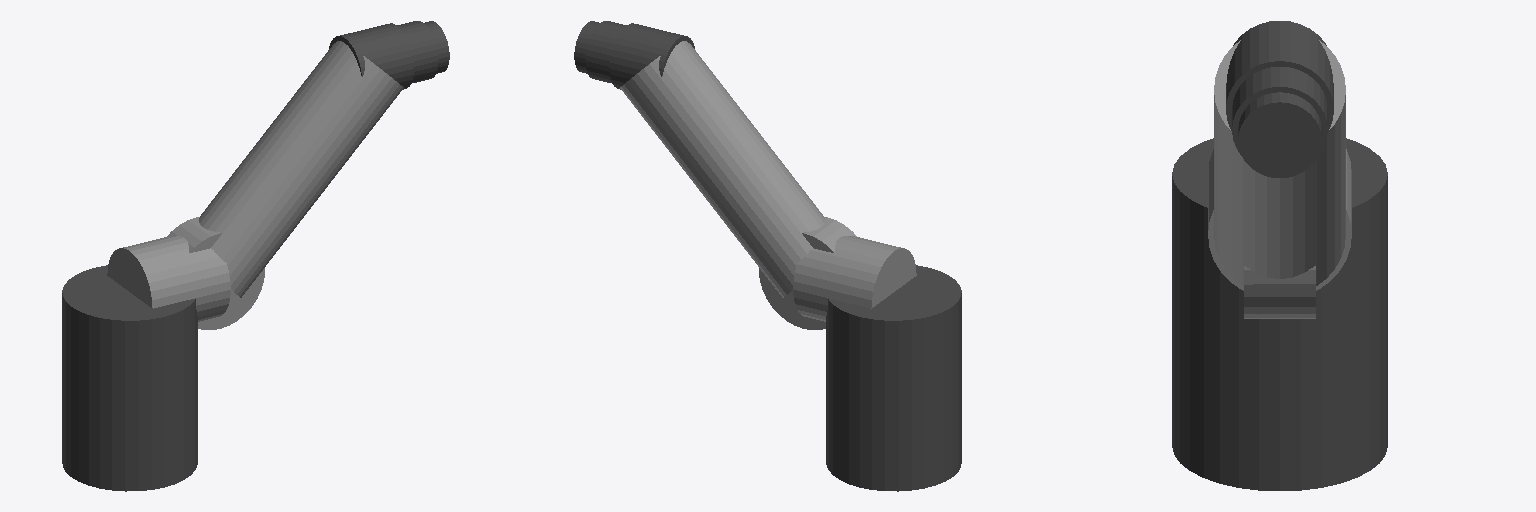
robot.urdf — rs003nff60:
<?xml version="1.0"?>
<robot name="rs003nff60">

  <!-- ==========================================================
       URDF generado EXACTAMENTE a partir de la tabla de parámetros
       Denavit-Hartenberg (foto adjunta por el usuario).

       Convención usada (coincide con el orden de columnas de la
       tabla: theta_i | d_i | alpha_i | a_i):

           A_i = Rz(theta_i) * Tz(d_i) * Rx(alpha_i) * Tx(a_i)

       Tabla DH (mm y rad):
         Link |  theta_i     |  d_i  |  alpha_i  |  a_i
           1  |  theta1      |  250  |   +pi/2   |  120
           2  |  theta2      |    0  |     0     |    0
           3  |  theta3+pi/2 |    0  |   +pi/2   |  250
           4  |  theta4      |  250  |   -pi/2   |    0
           5  |  theta5      |    0  |   +pi/2   |    0
           6  |  theta6      |   80  |     0     |    0

       Cómo se llevó cada fila de la tabla DH a un joint URDF:
       Como Rz(theta) y Tz(d) conmutan (ambas son sobre el eje z),
       el producto total de las 6 matrices DH se puede reescribir
       como: [Tz(d1)*Rz(th1)] * [Rx(a1)*Tx(a1)*Tz(d2)*Rz(th2)] * ...
       Esto permite definir, para cada joint i, un "origin" fijo
       igual a:
             origin_i = Rx(alpha_{i-1}) * Tx(a_{i-1}) * Tz(d_i)
       (con alpha_0 = a_0 = 0), eje de giro = z, y variable = theta_i.
       Esta construcción se verificó numéricamente (Python/numpy):
       para ángulos aleatorios, T_URDF = T_DH exactamente (error 0).

       El offset fijo de +pi/2 del link 3 (theta3 + pi/2 en la tabla)
       se incorpora como una rotación constante rpy_z=+pi/2 en el
       origin de joint3: así, el valor del joint en el URDF
       corresponde exactamente a theta3 tal como aparece en la tabla.

       HOME (todos los joints en 0 rad) -> posición del punto P
       (origen de tool0) respecto a la base: x=450 mm, y=0, z=500 mm.

       El origen del robot se ancla en el mundo en (0,0,0).
       ========================================================== -->

  <material name="grey">
    <color rgba="0.6 0.6 0.6 1.0"/>
  </material>
  <material name="dark_grey">
    <color rgba="0.35 0.35 0.35 1.0"/>
  </material>

  <link name="world"/>

  <joint name="world_to_base" type="fixed">
    <parent link="world"/>
    <child link="base_link"/>
    <origin xyz="0 0 0" rpy="0 0 0"/>
  </joint>

  <!-- ================= BASE (columna fija, d1 = 250 mm) =================
       Como el eje de joint1 es z (vertical) y coincide con el eje de
       esta columna, se puede modelar toda la columna como parte del
       base_link sin afectar la cinemática (rotacionalmente simétrica). -->
  <link name="base_link">
    <visual>
      <origin xyz="0 0 0.125" rpy="0 0 0"/>
      <geometry>
        <cylinder radius="0.09" length="0.25"/>
      </geometry>
      <material name="dark_grey"/>
    </visual>
    <collision>
      <origin xyz="0 0 0.125" rpy="0 0 0"/>
      <geometry>
        <cylinder radius="0.09" length="0.25"/>
      </geometry>
    </collision>
    <inertial>
      <mass value="15.0"/>
      <origin xyz="0 0 0.125"/>
      <inertia ixx="0.05" ixy="0" ixz="0" iyy="0.05" iyz="0" izz="0.05"/>
    </inertial>
  </link>

  <!-- ================= J1: theta1, d1=250, alpha1=+90, a1=120 ================= -->
  <joint name="joint1" type="revolute">
    <parent link="base_link"/>
    <child link="link1"/>
    <origin xyz="0 0 0.25" rpy="0 0 0"/>
    <axis xyz="0 0 1"/>
    <limit lower="-2.9671" upper="2.9671" effort="200" velocity="6.28"/>
  </joint>

  <!-- link1: va de joint1 a joint2, offset local (0.12, 0, 0) -> 120 mm en X -->
  <link name="link1">
    <visual>
      <origin xyz="0.06 0 0" rpy="0 1.5708 0"/>
      <geometry>
        <cylinder radius="0.06" length="0.12"/>
      </geometry>
      <material name="grey"/>
    </visual>
    <collision>
      <origin xyz="0.06 0 0" rpy="0 1.5708 0"/>
      <geometry>
        <cylinder radius="0.06" length="0.12"/>
      </geometry>
    </collision>
    <inertial>
      <mass value="6.0"/>
      <origin xyz="0.06 0 0"/>
      <inertia ixx="0.015" ixy="0" ixz="0" iyy="0.015" iyz="0" izz="0.01"/>
    </inertial>
  </link>

  <!-- ================= J2: theta2, d2=0, alpha2=0, a2=0 ================= -->
  <joint name="joint2" type="revolute">
    <parent link="link1"/>
    <child link="link2"/>
    <origin xyz="0.12 0 0" rpy="1.5708 0 0"/>
    <axis xyz="0 0 1"/>
    <limit lower="-1.0472" upper="1.5708" effort="200" velocity="5.24"/>
  </joint>

  <!-- link2: joint3 coincide con joint2 (d2=a2=0) -> solo un muñón visual -->
  <link name="link2">
    <visual>
      <origin xyz="0 0 0" rpy="0 0 0"/>
      <geometry>
        <cylinder radius="0.07" length="0.06"/>
      </geometry>
      <material name="grey"/>
    </visual>
    <collision>
      <origin xyz="0 0 0" rpy="0 0 0"/>
      <geometry>
        <cylinder radius="0.07" length="0.06"/>
      </geometry>
    </collision>
    <inertial>
      <mass value="4.0"/>
      <origin xyz="0 0 0"/>
      <inertia ixx="0.01" ixy="0" ixz="0" iyy="0.01" iyz="0" izz="0.008"/>
    </inertial>
  </link>

  <!-- ================= J3: theta3+90, d3=0, alpha3=+90, a3=250 =================
       El offset de +pi/2 de la tabla se aplica como rpy_z=+pi/2 fijo:
       el valor de este joint en el URDF = theta3 (tal cual la tabla). -->
  <joint name="joint3" type="revolute">
    <parent link="link2"/>
    <child link="link3"/>
    <origin xyz="0 0 0" rpy="0 0 1.5708"/>
    <axis xyz="0 0 1"/>
    <limit lower="-1.0472" upper="1.0472" effort="150" velocity="6.28"/>
  </joint>

  <!-- link3: va de joint3 a joint4, offset local (0.25, -0.25, 0) -> 353.6 mm diagonal (a3=250, alpha3=90) -->
  <link name="link3">
    <visual>
      <origin xyz="0.125 -0.125 0" rpy="1.5708 0.7854 0.7854"/>
      <geometry>
        <cylinder radius="0.055" length="0.3536"/>
      </geometry>
      <material name="grey"/>
    </visual>
    <collision>
      <origin xyz="0.125 -0.125 0" rpy="1.5708 0.7854 0.7854"/>
      <geometry>
        <cylinder radius="0.055" length="0.3536"/>
      </geometry>
    </collision>
    <inertial>
      <mass value="4.0"/>
      <origin xyz="0.125 -0.125 0"/>
      <inertia ixx="0.01" ixy="0" ixz="0" iyy="0.01" iyz="0" izz="0.006"/>
    </inertial>
  </link>

  <!-- ================= J4: theta4, d4=250, alpha4=-90, a4=0 ================= -->
  <joint name="joint4" type="revolute">
    <parent link="link3"/>
    <child link="link4"/>
    <origin xyz="0.25 -0.25 0" rpy="1.5708 0 0"/>
    <axis xyz="0 0 1"/>
    <limit lower="-3.4907" upper="3.4907" effort="50" velocity="9.42"/>
  </joint>

  <!-- link4: joint5 coincide con joint4 (d4 ya viaja dentro del origin de joint4) -->
  <link name="link4">
    <visual>
      <origin xyz="0 0 0" rpy="0 0 0"/>
      <geometry>
        <cylinder radius="0.045" length="0.08"/>
      </geometry>
      <material name="dark_grey"/>
    </visual>
    <collision>
      <origin xyz="0 0 0" rpy="0 0 0"/>
      <geometry>
        <cylinder radius="0.045" length="0.08"/>
      </geometry>
    </collision>
    <inertial>
      <mass value="1.5"/>
      <origin xyz="0 0 0"/>
      <inertia ixx="0.002" ixy="0" ixz="0" iyy="0.002" iyz="0" izz="0.001"/>
    </inertial>
  </link>

  <!-- ================= J5: theta5, d5=0, alpha5=+90, a5=0 ================= -->
  <joint name="joint5" type="revolute">
    <parent link="link4"/>
    <child link="link5"/>
    <origin xyz="0 0 0" rpy="-1.5708 0 0"/>
    <axis xyz="0 0 1"/>
    <limit lower="-2.1817" upper="2.1817" effort="50" velocity="9.42"/>
  </joint>

  <!-- link5: va de joint5 a joint6, offset local (0, -0.08, 0) -> 80 mm (d6) -->
  <link name="link5">
    <visual>
      <origin xyz="0 -0.04 0" rpy="1.5708 0 0"/>
      <geometry>
        <cylinder radius="0.04" length="0.08"/>
      </geometry>
      <material name="dark_grey"/>
    </visual>
    <collision>
      <origin xyz="0 -0.04 0" rpy="1.5708 0 0"/>
      <geometry>
        <cylinder radius="0.04" length="0.08"/>
      </geometry>
    </collision>
    <inertial>
      <mass value="1.0"/>
      <origin xyz="0 -0.04 0"/>
      <inertia ixx="0.0008" ixy="0" ixz="0" iyy="0.0008" iyz="0" izz="0.0006"/>
    </inertial>
  </link>

  <!-- ================= J6: theta6, d6=80, alpha6=0, a6=0 ================= -->
  <joint name="joint6" type="revolute">
    <parent link="link5"/>
    <child link="flange"/>
    <origin xyz="0 -0.08 0" rpy="1.5708 0 0"/>
    <axis xyz="0 0 1"/>
    <limit lower="-6.2832" upper="6.2832" effort="30" velocity="12.56"/>
  </joint>

  <link name="flange">
    <visual>
      <origin xyz="0 0 0.01" rpy="0 0 0"/>
      <geometry>
        <cylinder radius="0.035" length="0.02"/>
      </geometry>
      <material name="dark_grey"/>
    </visual>
    <collision>
      <origin xyz="0 0 0.01" rpy="0 0 0"/>
      <geometry>
        <cylinder radius="0.035" length="0.02"/>
      </geometry>
    </collision>
    <inertial>
      <mass value="0.3"/>
      <origin xyz="0 0 0.01"/>
      <inertia ixx="0.0002" ixy="0" ixz="0" iyy="0.0002" iyz="0" izz="0.0001"/>
    </inertial>
  </link>

  <!-- Punto P: como a6=0 y alpha6=0, tool0 coincide EXACTAMENTE con
       el frame 6 de la tabla DH (sin offsets inventados). -->
  <joint name="flange_to_tool0" type="fixed">
    <parent link="flange"/>
    <child link="tool0"/>
    <origin xyz="0 0 0" rpy="0 0 0"/>
  </joint>

  <link name="tool0"/>

</robot>

--- Facts derived from the render (not from the file) ---
3 views of the same robot in one strip: view 1: azimuth 30°, elevation 25°; view 2: azimuth 150°, elevation 25°; view 3: azimuth 270°, elevation 25° (orthographic).
Robot: rs003nff60 — 9 links, 8 joints (6 revolute, 2 fixed); root link world; default pose: all joints at 0.
Visible links, largest first — view 1: base_link, link3, link1, link4, link2, link5, flange; view 2: base_link, link3, link1, link4, link2, link5, flange; view 3: base_link, link3, flange, link4, link2, link5, link1.
Link boxes in pixels (x1=…): base_link: x1=62, y1=265, x2=197, y2=491; link3: x1=199, y1=41, x2=403, y2=297; link1: x1=107, y1=236, x2=230, y2=321; link4: x1=329, y1=23, x2=413, y2=89; link2: x1=167, y1=217, x2=264, y2=329; link5: x1=397, y1=21, x2=438, y2=82; flange: x1=424, y1=21, x2=449, y2=73; base_link: x1=826, y1=265, x2=961, y2=491; link3: x1=620, y1=41, x2=824, y2=297; link1: x1=793, y1=236, x2=916, y2=321; link4: x1=610, y1=23, x2=694, y2=89; link2: x1=759, y1=217, x2=856, y2=329; link5: x1=585, y1=21, x2=626, y2=82; flange: x1=574, y1=21, x2=599, y2=73; base_link: x1=1172, y1=138, x2=1387, y2=490; link3: x1=1214, y1=40, x2=1345, y2=285; flange: x1=1238, y1=92, x2=1321, y2=177; link4: x1=1226, y1=21, x2=1333, y2=130; link2: x1=1244, y1=266, x2=1315, y2=318; link5: x1=1232, y1=67, x2=1327, y2=154; link1: x1=1208, y1=149, x2=1351, y2=290.
Size in the robot's own frame: 0.56 by 0.18 by 0.545 metres.
Geometry: primitives only (box / cylinder / sphere), no mesh files.
